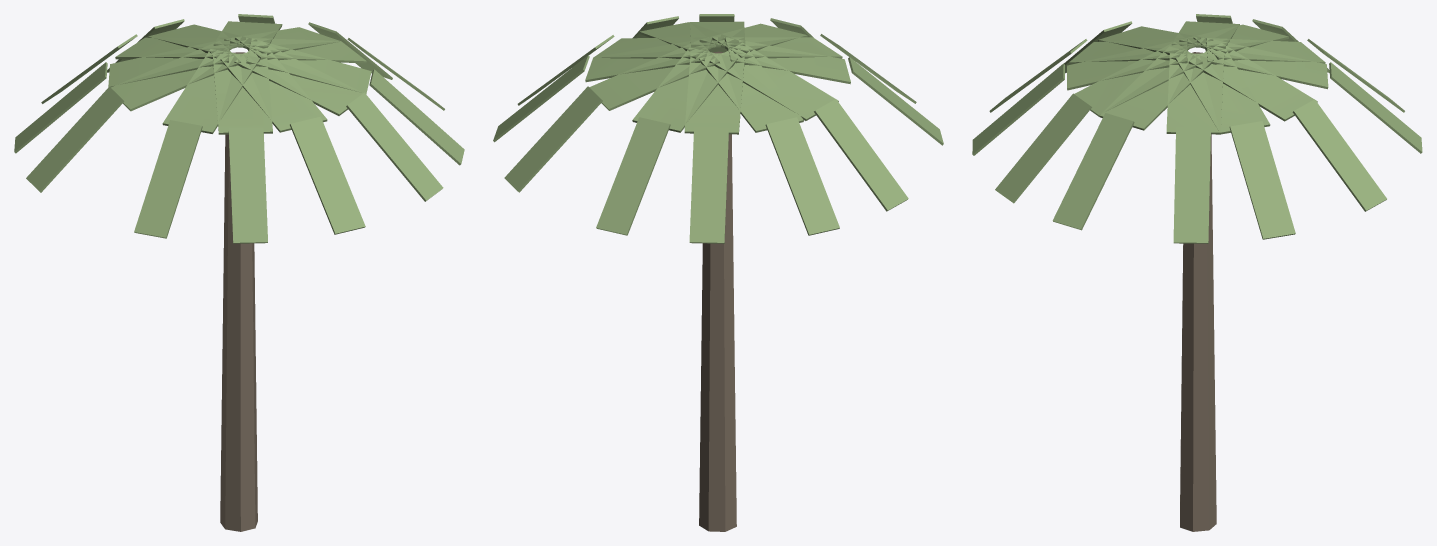
Rendered from palmeira.glb.
The picture shows the model from 3 angles, left to right: view 1: azimuth 30°, elevation 25°; view 2: azimuth 150°, elevation 25°; view 3: azimuth 270°, elevation 25°; orthographic projection.
Visible parts, largest first — view 1: folhas, tronco; view 2: folhas, tronco; view 3: folhas, tronco.
Boxes of the visible parts, x1=… form: folhas: x1=14, y1=14, x2=464, y2=243; tronco: x1=220, y1=52, x2=257, y2=531; folhas: x1=493, y1=14, x2=943, y2=243; tronco: x1=699, y1=51, x2=736, y2=531; folhas: x1=972, y1=14, x2=1422, y2=243; tronco: x1=1180, y1=52, x2=1216, y2=531.
Size of what is drawn, in the model's own units: 5.8 by 6.74 by 5.8.
